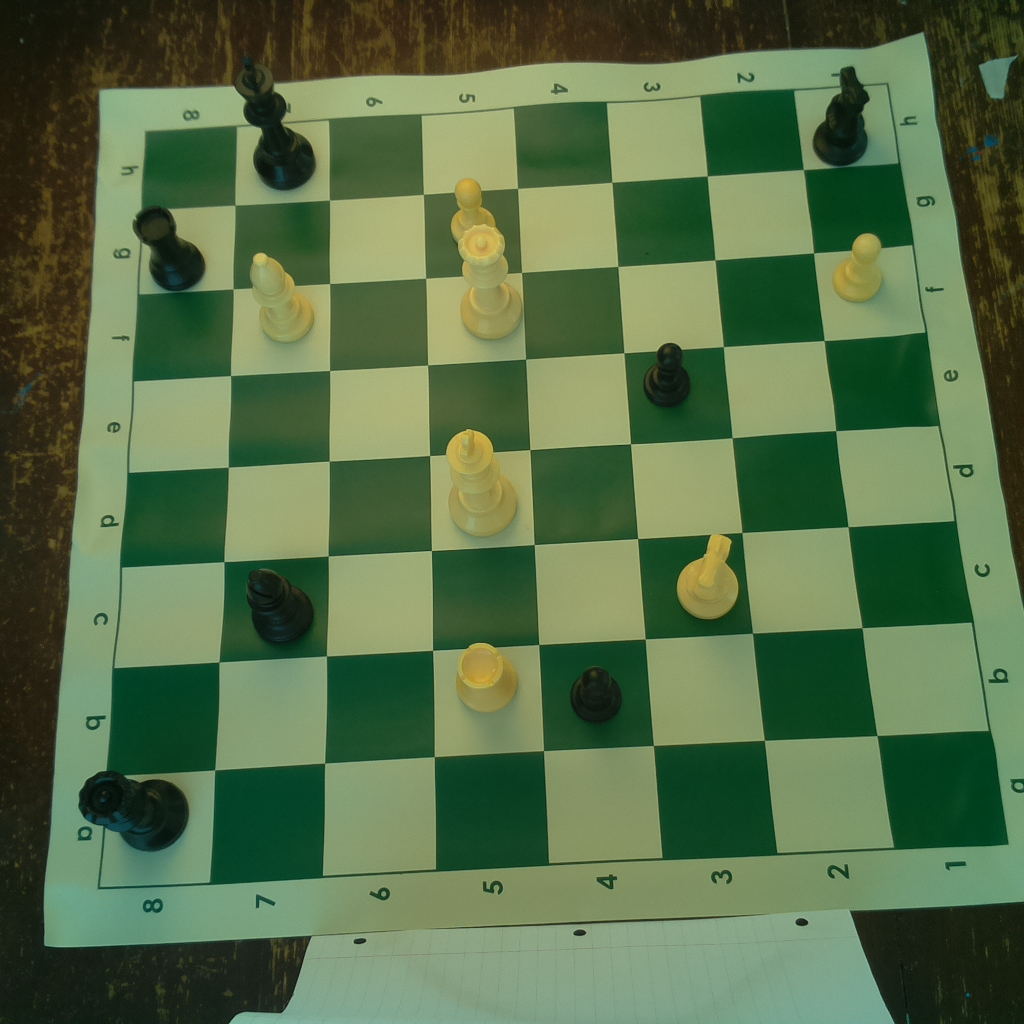black_bishop: (244, 562, 316, 648)
black_king: (228, 54, 321, 191)
black_knight: (808, 61, 871, 171)
black_pawn: (637, 338, 699, 412), (567, 660, 627, 723)
black_queen: (77, 765, 193, 852)
black_rook: (127, 202, 210, 296)
file_a: (98, 705, 1010, 888)
file_b: (106, 621, 989, 777)
file_c: (114, 521, 976, 665)
file_d: (120, 427, 958, 569)
file_e: (128, 334, 941, 474)
file_f: (133, 244, 927, 383)
file_g: (142, 161, 915, 296)
file_h: (140, 83, 899, 212)
outline: (99, 84, 1012, 887)
rank_1: (794, 82, 1007, 849)
rank_2: (702, 87, 897, 857)
rank_3: (607, 92, 779, 861)
rank_4: (512, 101, 663, 864)
rank_5: (420, 108, 551, 871)
rank_6: (321, 114, 436, 874)
rank_7: (212, 121, 331, 883)
rank_8: (97, 126, 237, 887)
white_bishop: (246, 248, 318, 347)
white_king: (438, 425, 519, 536)
white_knight: (672, 530, 740, 618)
white_pawn: (831, 226, 888, 306), (442, 175, 498, 244)
white_queen: (453, 222, 523, 340)
white_rook: (453, 636, 523, 719)
